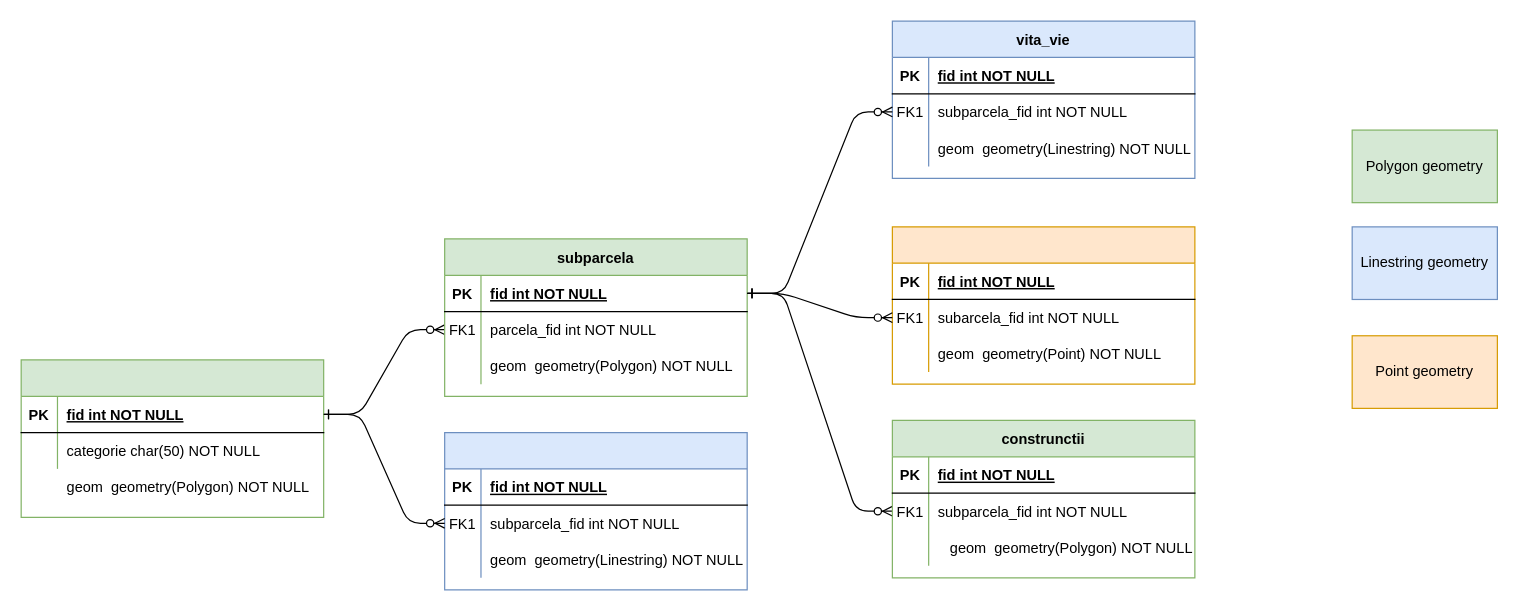
Image size: 1519x611. Some labels were removed from this diagram. Here are the shapes that lost their labels. From the top down, the box of each, then its label:
(891, 226, 1195, 384): pomi
(20, 359, 324, 517): parcela
(443, 431, 747, 590): alee
